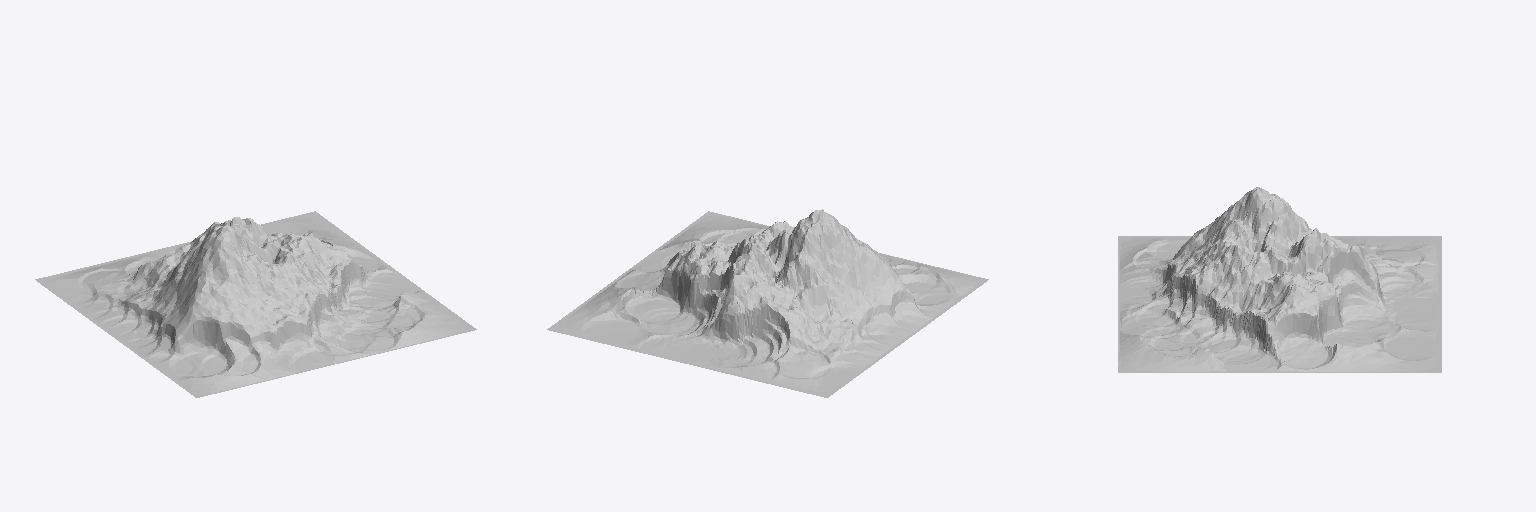
Rendered from Small2.obj.
3 views of the same model, side by side, from view 1: azimuth 30°, elevation 25°; view 2: azimuth 150°, elevation 25°; view 3: azimuth 270°, elevation 25° (orthographic).
Parts seen in each view (by area): view 1: island_sec1.002; view 2: island_sec1.002; view 3: island_sec1.002.
Part boxes in pixels (x1,y1,x2,y2): island_sec1.002: (35, 211, 476, 397); island_sec1.002: (547, 209, 988, 397); island_sec1.002: (1118, 187, 1441, 372).
Bounding box in the file's own units: 99.55 × 33.05 × 99.55.